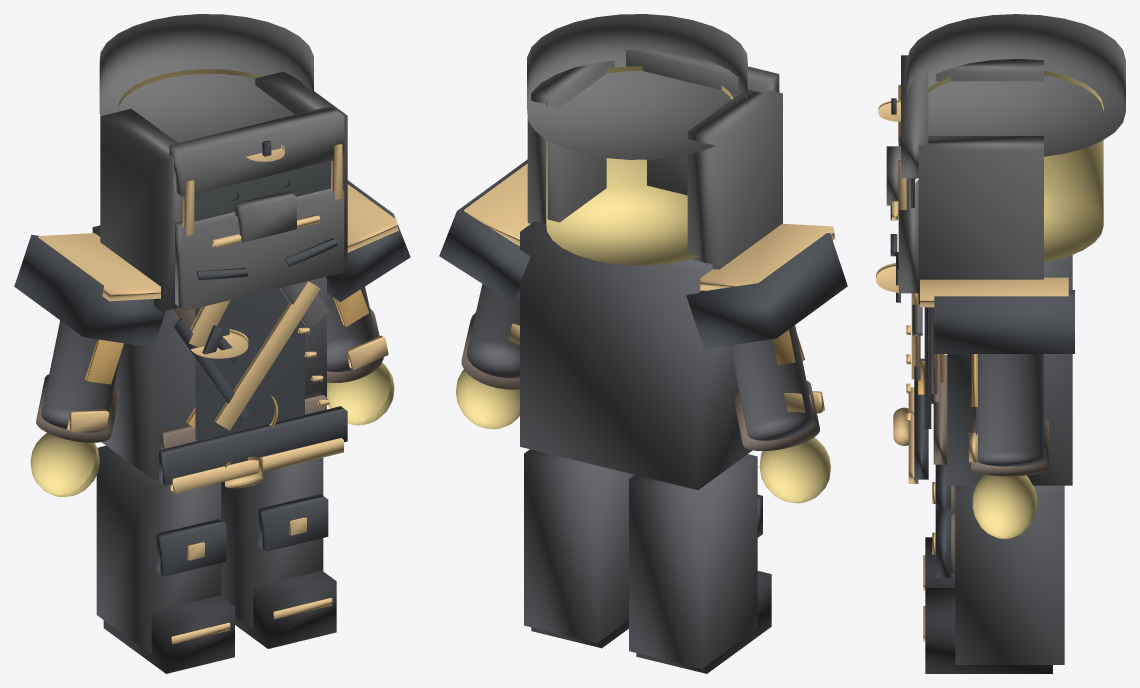
File: cole-tournament.glb
3 renders of one model, left to right at view 1: azimuth 30°, elevation 25°; view 2: azimuth 150°, elevation 25°; view 3: azimuth 270°, elevation 25°, orthographic. The views are drawn at different scales.
Parts seen in each view (by area): view 1: remasterHoodCrown, leftLegBody, remasterHoodLeftFold, remasterMaskLower, torsoBody, rightLegBody, remasterKimonoUnderlayer, remasterHoodForehead, remasterShoulderPlate-1, remasterWaistWrap, leftBoot, rightBoot (+27 smaller); view 2: torsoBody, leftLegBody, remasterHoodCrown, rightLegBody, remasterHoodLeftFold, headCore, remasterShoulderPlate-1, remasterHoodRightFold, leftArmBody, remasterShoulderPlate1, remasterShoulderEdge-1, rightArmBody (+9 smaller); view 3: remasterHoodCrown, remasterHoodRightFold, rightLegBody, remasterShoulderPlate1, torsoBody, rightArmBody, headCore, rightBoot, rightHandAuthored, remasterShoulderEdge1, remasterHoodForehead, remasterHoodLeftFold (+14 smaller).
Boxes of the visible parts, <box> form: remasterHoodCrown: <box>99,14,313,142</box>; leftLegBody: <box>96,445,221,653</box>; remasterHoodLeftFold: <box>100,108,182,311</box>; remasterMaskLower: <box>175,188,344,310</box>; torsoBody: <box>92,225,326,480</box>; rightLegBody: <box>221,457,323,629</box>; remasterKimonoUnderlayer: <box>195,288,304,441</box>; remasterHoodForehead: <box>169,106,344,196</box>; remasterShoulderPlate-1: <box>14,234,165,347</box>; remasterWaistWrap: <box>159,406,347,485</box>; leftBoot: <box>103,595,234,673</box>; rightBoot: <box>235,570,336,648</box>; torsoBody: <box>520,221,752,489</box>; leftLegBody: <box>629,454,757,668</box>; remasterHoodCrown: <box>527,14,747,159</box>; rightLegBody: <box>524,449,634,643</box>; remasterHoodLeftFold: <box>687,89,782,269</box>; headCore: <box>546,66,733,265</box>; remasterShoulderPlate-1: <box>686,233,847,349</box>; remasterHoodRightFold: <box>527,60,614,223</box>; leftArmBody: <box>729,325,814,440</box>; remasterShoulderPlate1: <box>439,159,530,302</box>; remasterShoulderEdge-1: <box>700,223,835,290</box>; rightArmBody: <box>467,284,519,378</box>; remasterHoodCrown: <box>907,14,1125,156</box>; remasterHoodRightFold: <box>918,136,1043,304</box>; rightLegBody: <box>955,485,1064,664</box>; remasterShoulderPlate1: <box>934,290,1074,353</box>; torsoBody: <box>947,255,1072,485</box>; rightArmBody: <box>976,354,1043,466</box>; headCore: <box>928,71,1103,261</box>; rightBoot: <box>925,588,1052,673</box>; rightHandAuthored: <box>972,466,1036,538</box>; remasterShoulderEdge1: <box>920,277,1068,307</box>; remasterHoodForehead: <box>901,55,928,178</box>; remasterHoodLeftFold: <box>935,59,1043,81</box>.
Size of the model in its own units: 1.61 by 2.42 by 0.959.
